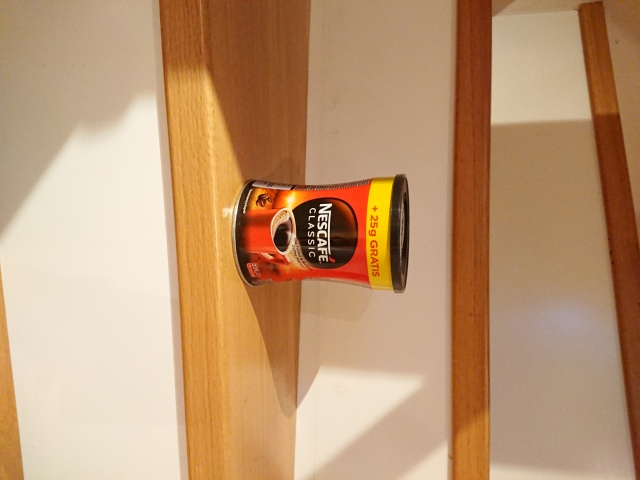Nescafe Classic 225g: (229, 171, 413, 296)
